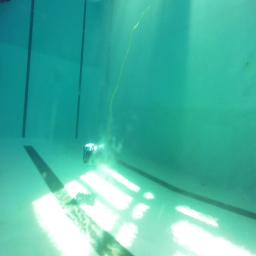front: (81, 143, 108, 164)
